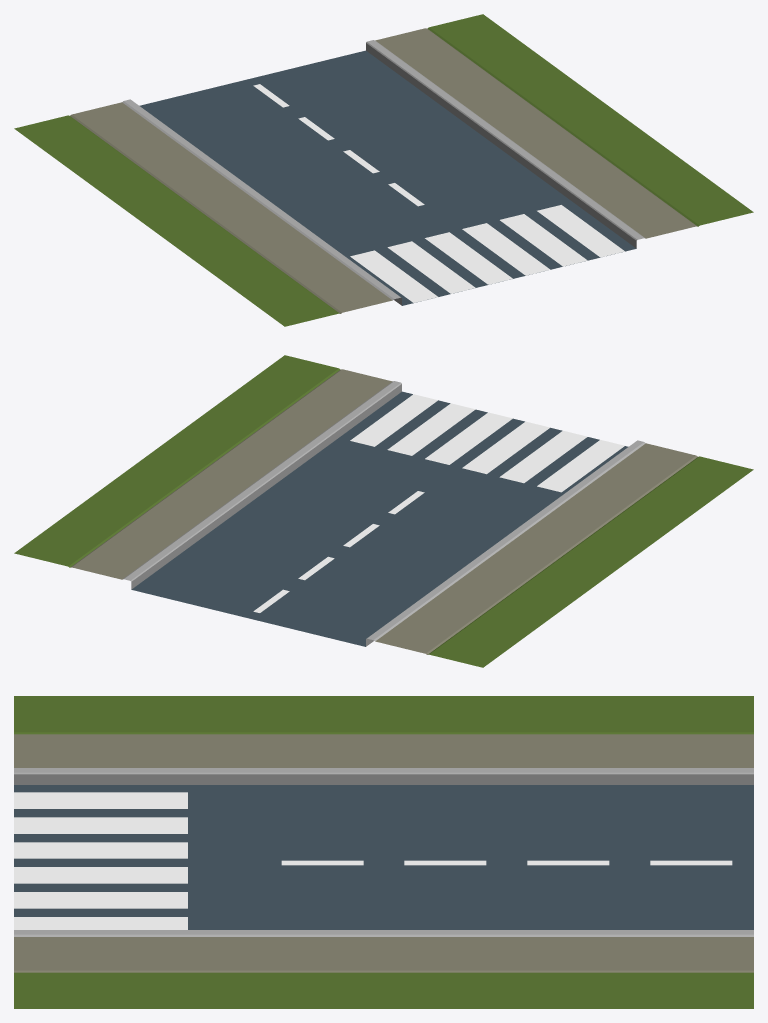
Rendered from Road Straight with Crossing.fbx.
3 renders of one model, top to bottom at view 1: azimuth 30°, elevation 25°; view 2: azimuth 150°, elevation 25°; view 3: azimuth 270°, elevation 25°, orthographic. The views are drawn at different scales.
Parts seen in each view (by area): view 1: Circle.019; view 2: Circle.019; view 3: Circle.019.
Boxes of the visible parts, left/top/right/bottom form: Circle.019: left=14, top=14, right=753, bottom=326; Circle.019: left=14, top=355, right=753, bottom=667; Circle.019: left=14, top=696, right=753, bottom=1008.
Size of the model in its own units: 3.4 by 0.06 by 3.4.
